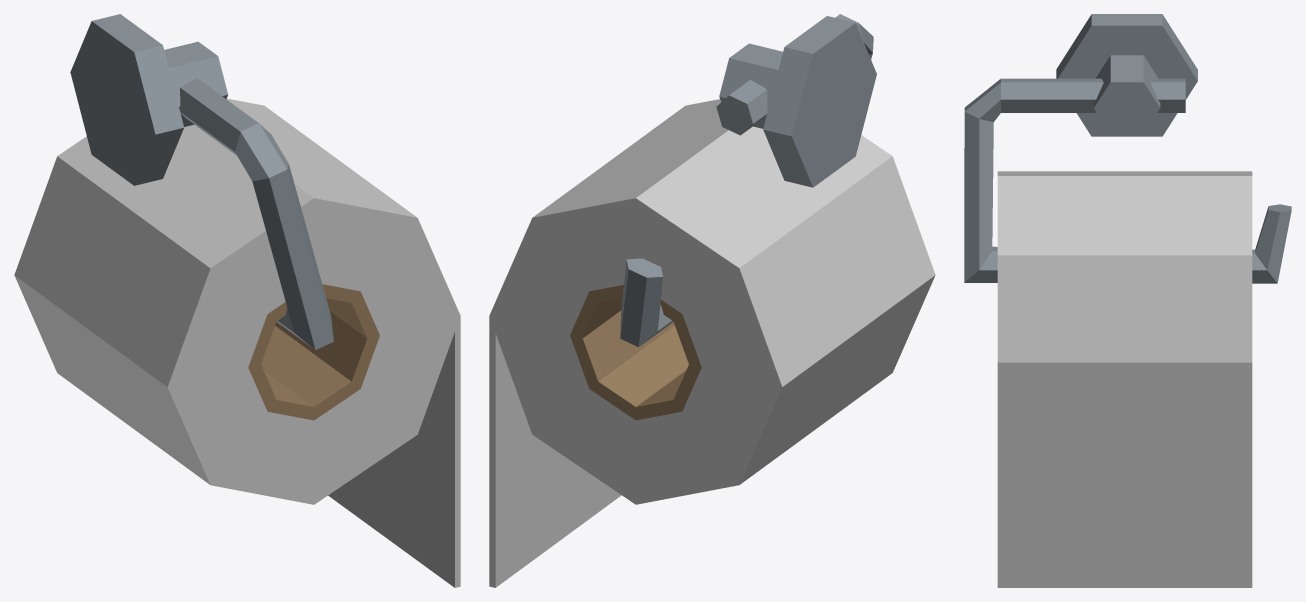
File: SM_Item_ToiletRoll_Mounted_01.fbx
The picture shows the model from 3 angles, left to right: view 1: azimuth 30°, elevation 25°; view 2: azimuth 150°, elevation 25°; view 3: azimuth 270°, elevation 25°; orthographic projection. The views are drawn at different scales.
Parts seen in each view (by area): view 1: SM_Item_ToiletRoll_Mounted_01; view 2: SM_Item_ToiletRoll_Mounted_01; view 3: SM_Item_ToiletRoll_Mounted_01.
Part boxes in pixels (bbox=[...]): SM_Item_ToiletRoll_Mounted_01: bbox=[14, 14, 460, 587]; SM_Item_ToiletRoll_Mounted_01: bbox=[489, 14, 935, 587]; SM_Item_ToiletRoll_Mounted_01: bbox=[964, 14, 1291, 587].
Bounding box in the file's own units: 15.6 × 28.42 × 18.15.
